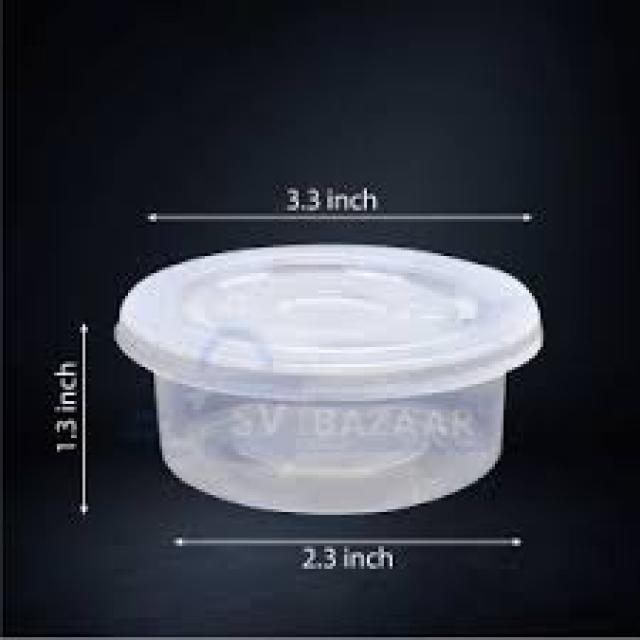disposable: (115, 244, 572, 546)
